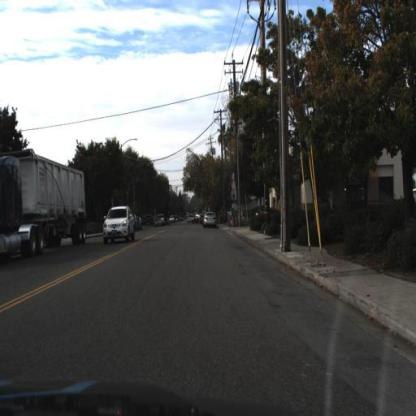car: (102, 202, 138, 246), (203, 211, 221, 232), (153, 215, 165, 229)
truck: (1, 154, 90, 261)
